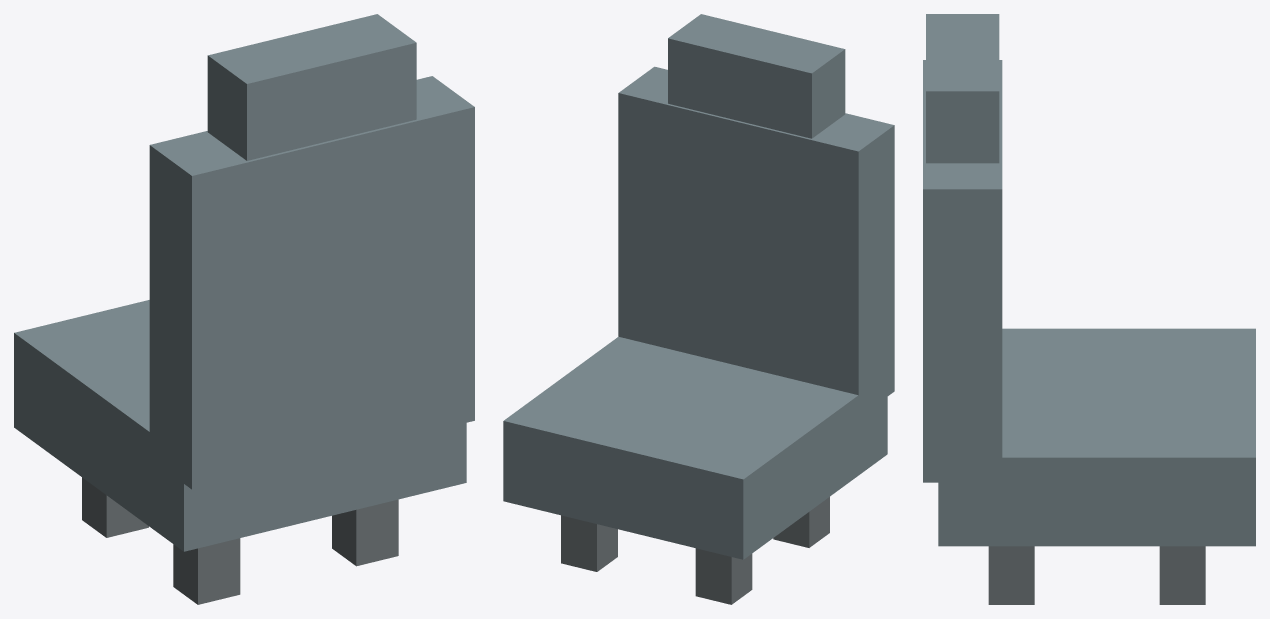
File: car_seat_front.glb
3 renders of one model, left to right at view 1: azimuth 30°, elevation 25°; view 2: azimuth 150°, elevation 25°; view 3: azimuth 270°, elevation 25°, orthographic. The views are drawn at different scales.
Visible parts, largest first — view 1: body; view 2: body; view 3: body.
Part boxes in pixels (bbox=[...]): body: bbox=[14, 14, 474, 604]; body: bbox=[503, 14, 894, 604]; body: bbox=[923, 14, 1255, 604].
Size of the model in its own units: 0.5 by 0.915 by 0.545.
